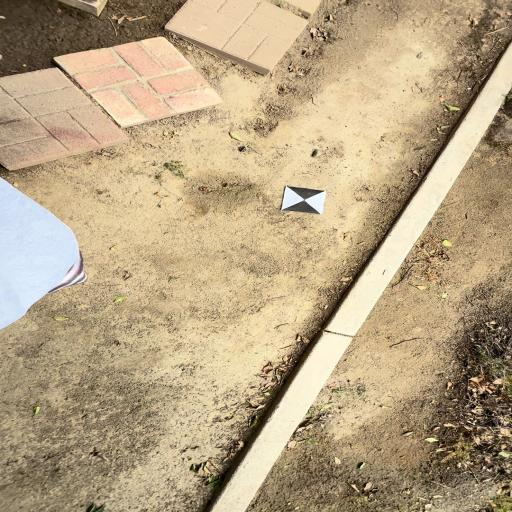target: (281, 187, 327, 214)
